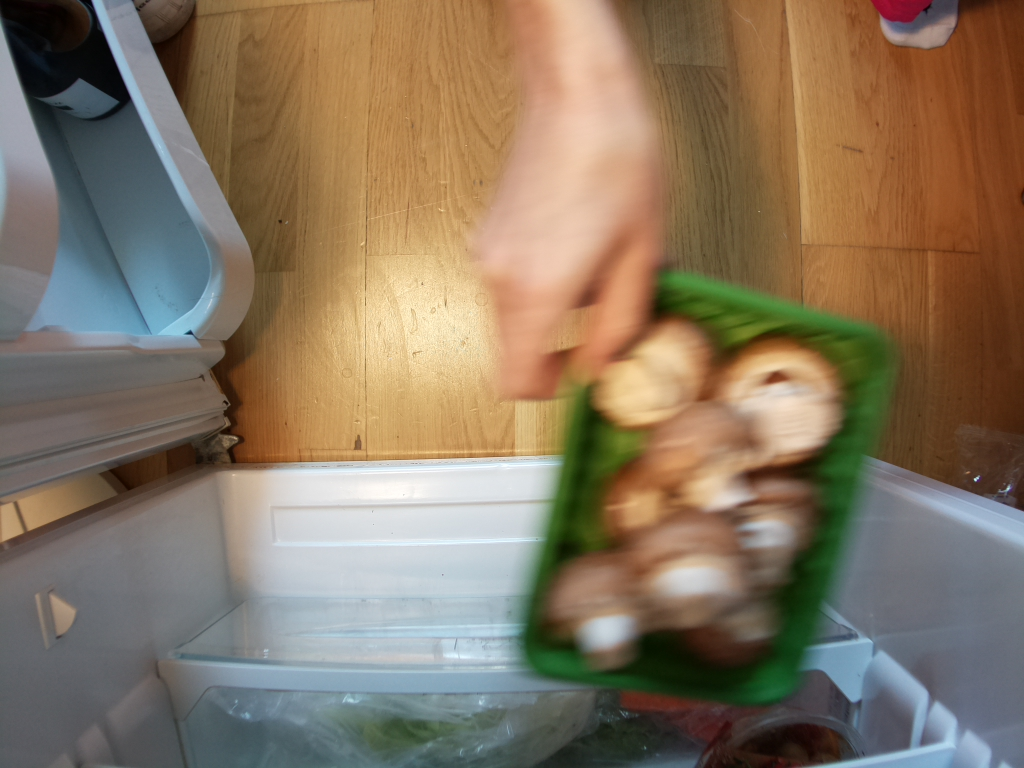mushrooms: (518, 251, 894, 697)
